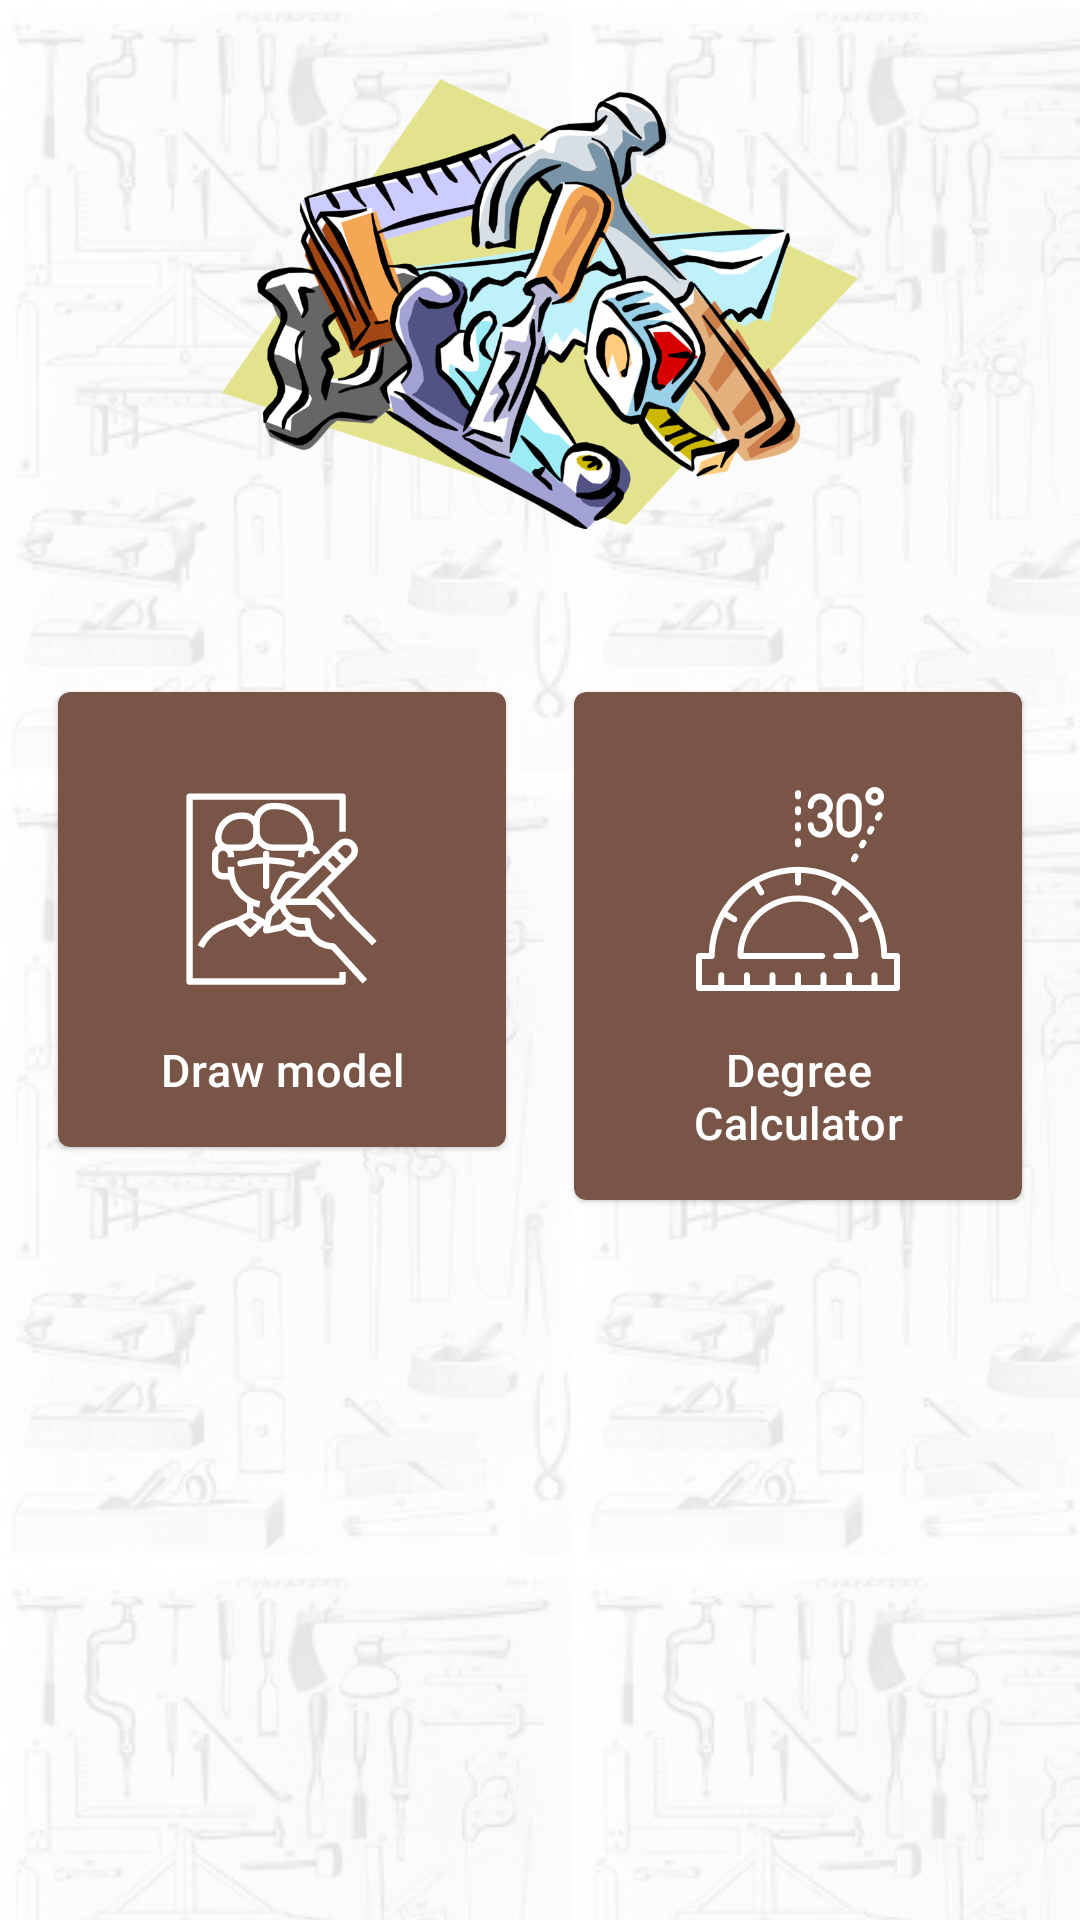

Where icons sit on this 1080px×1920px app screen, as (x1, y1, x2, y2):
drawing model: (186, 793, 377, 985)
ruler: (696, 787, 900, 991)
